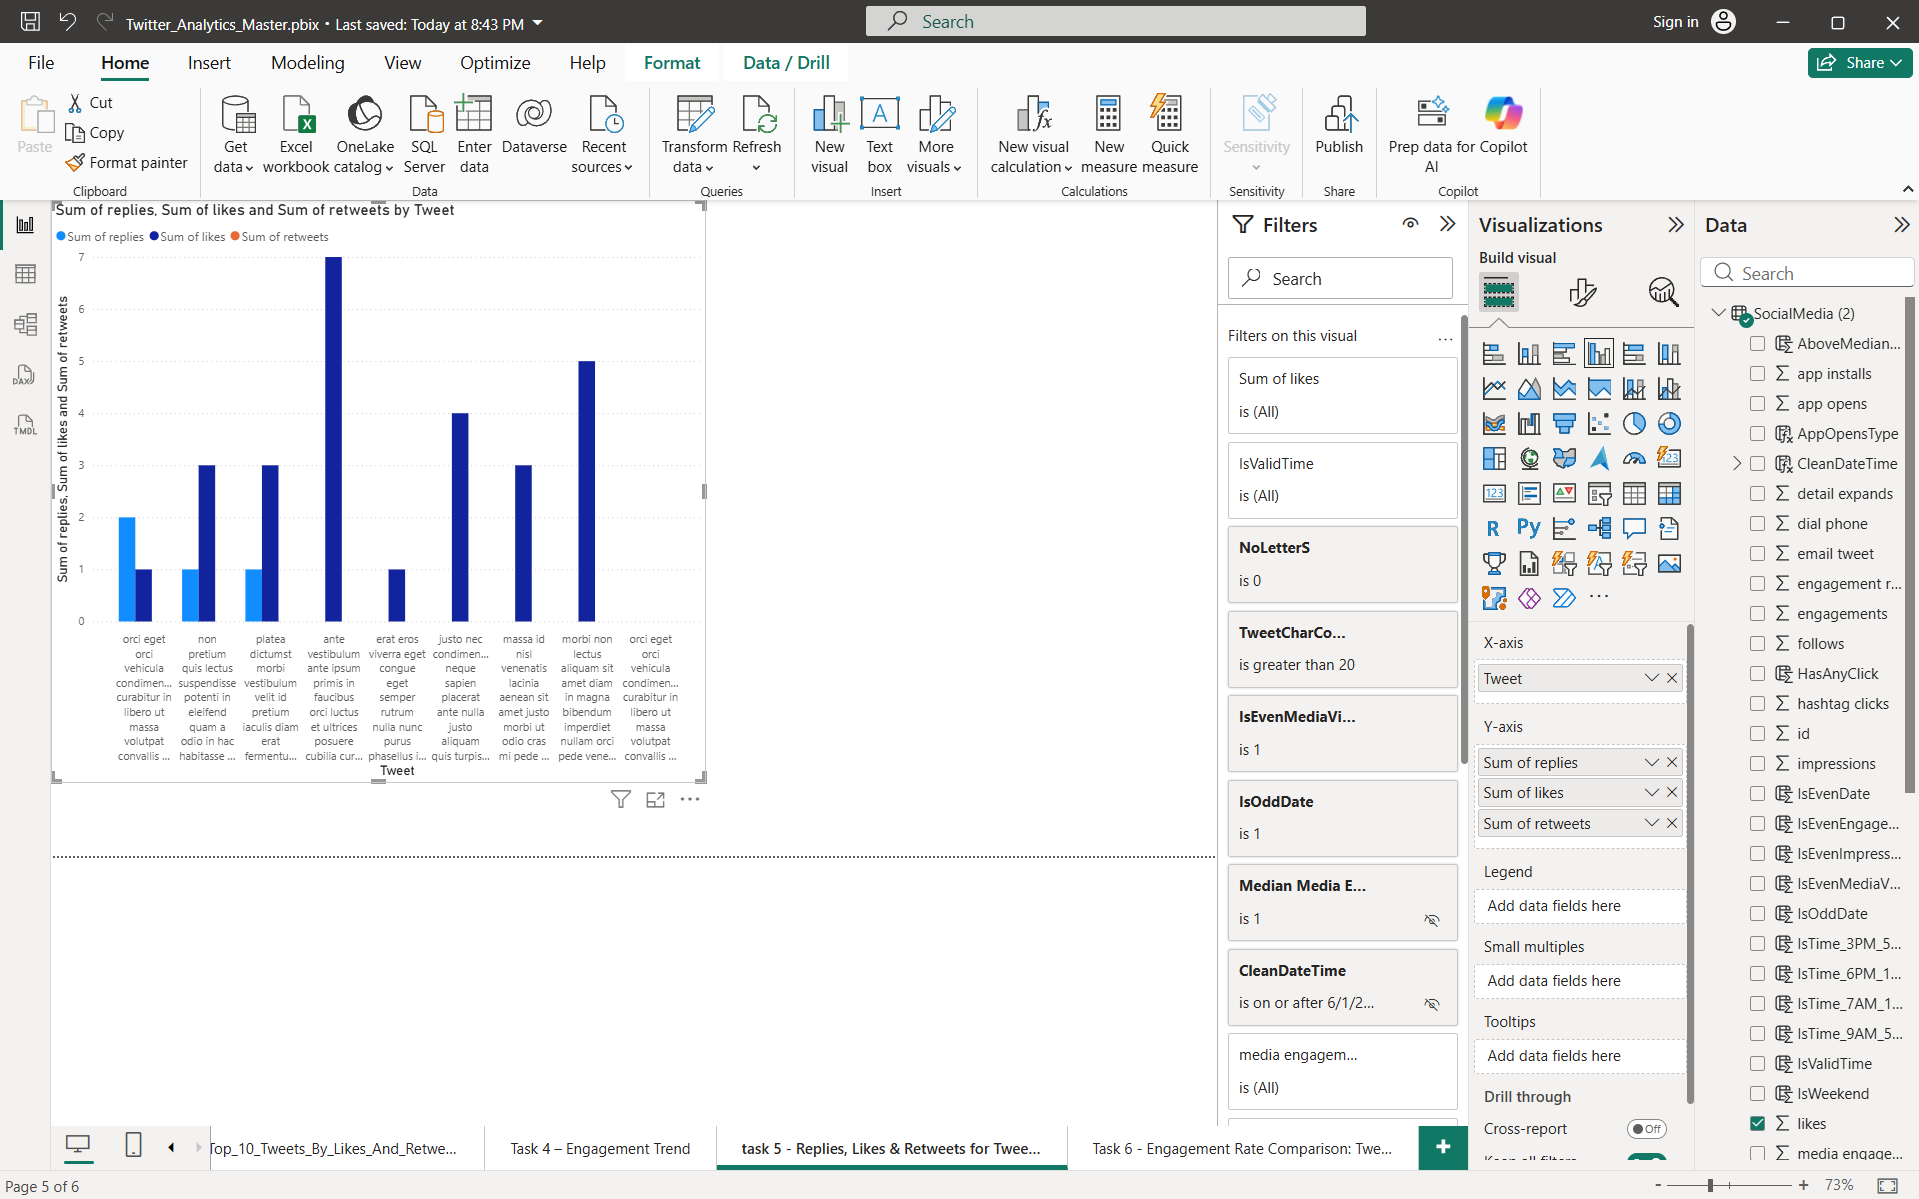

What the dashboard file says about the page in this screenshot:
{"tool":"powerbi","page":{"name":"task 5 - Replies, Likes & Retweets for Tweets Above Median Media Engagement (Jun–Aug 2020)","canvas":[1280,720],"ordinal":4},"visuals":[{"type":"clusteredColumnChart","fields":{"Category":["SocialMedia (2).Tweet"],"Y":["Sum(SocialMedia (2).replies)","Sum(SocialMedia (2).likes)","Sum(SocialMedia (2).retweets)"]},"box":[0,0,640,510],"z":0}]}

Visuals, with their boxes on the page's 1280x720 design canvas (x1, y1, x2, y2). These are canvas units, not pixel positions in the 1919x1199 screenshot, which may show the page scaled, cropped or inside an application window:
clusteredColumnChart - SocialMedia (2).Tweet x Sum(SocialMedia (2).replies): (x1=0, y1=0, x2=640, y2=510)
